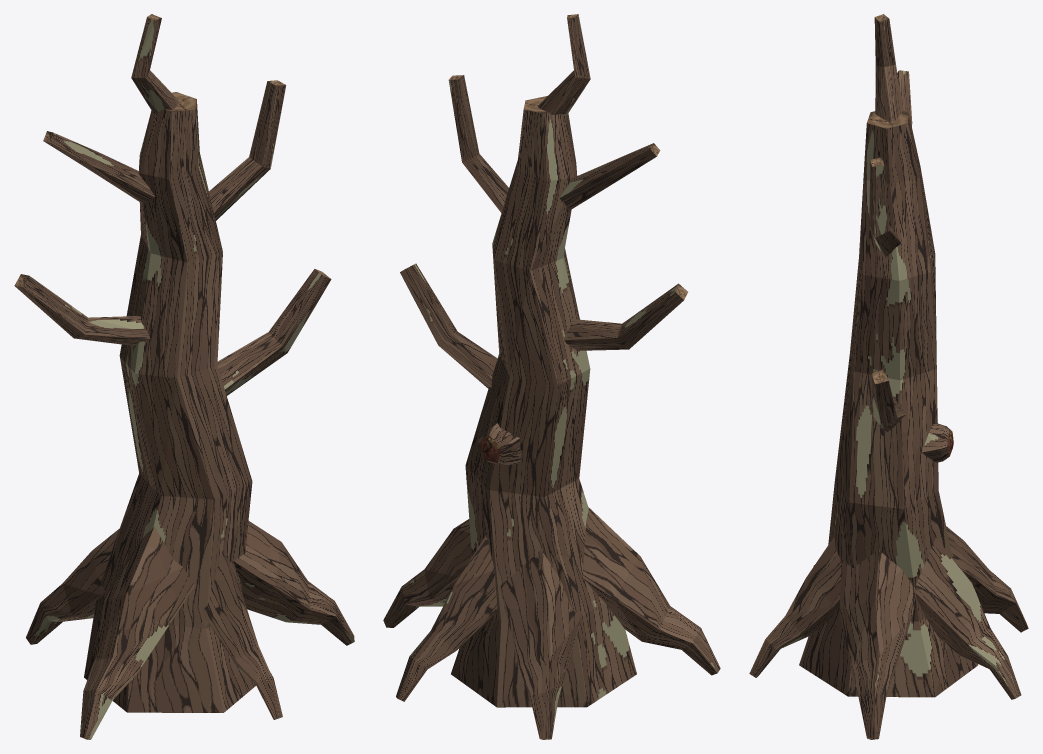
The model's file is SM_TR10_DeadBare.fbx.
The picture shows the model from 3 angles, left to right: view 1: azimuth 30°, elevation 25°; view 2: azimuth 150°, elevation 25°; view 3: azimuth 270°, elevation 25°; orthographic projection. The views are drawn at different scales.
Visible parts, largest first — view 1: TR10_Bark, TR10_Parts; view 2: TR10_Bark, TR10_Parts; view 3: TR10_Bark, TR10_Parts.
Boxes of the visible parts, left/top/right/bottom form: TR10_Bark: left=15, top=17, right=354, bottom=739; TR10_Parts: left=14, top=14, right=330, bottom=286; TR10_Bark: left=383, top=14, right=720, bottom=739; TR10_Parts: left=401, top=14, right=687, bottom=462; TR10_Bark: left=749, top=17, right=1028, bottom=739; TR10_Parts: left=867, top=14, right=953, bottom=455.
Bounding box in the file's own units: 3.07 × 6.11 × 2.43.
